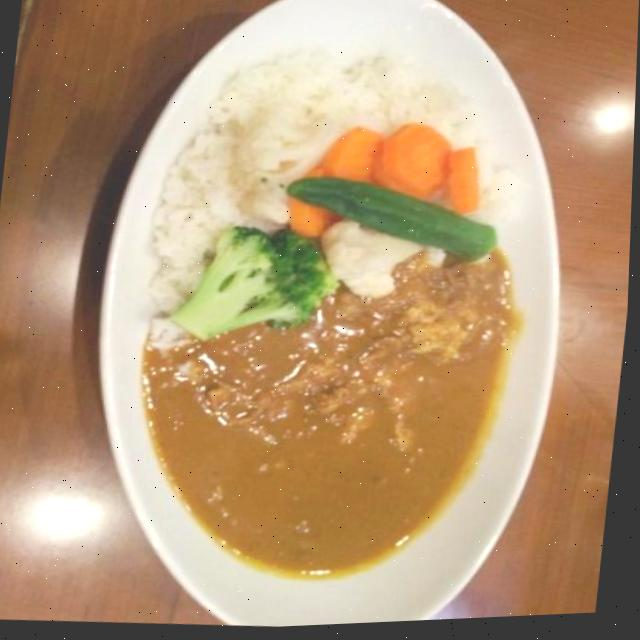牛肉菜式: (56, 0, 596, 637)
